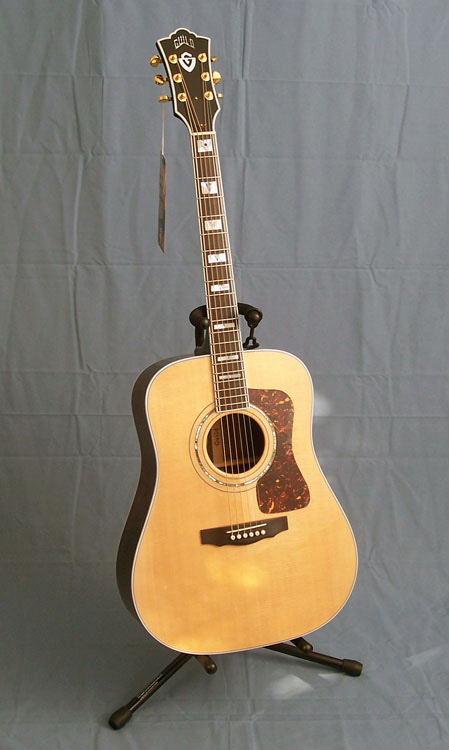guitar: (116, 22, 362, 654)
